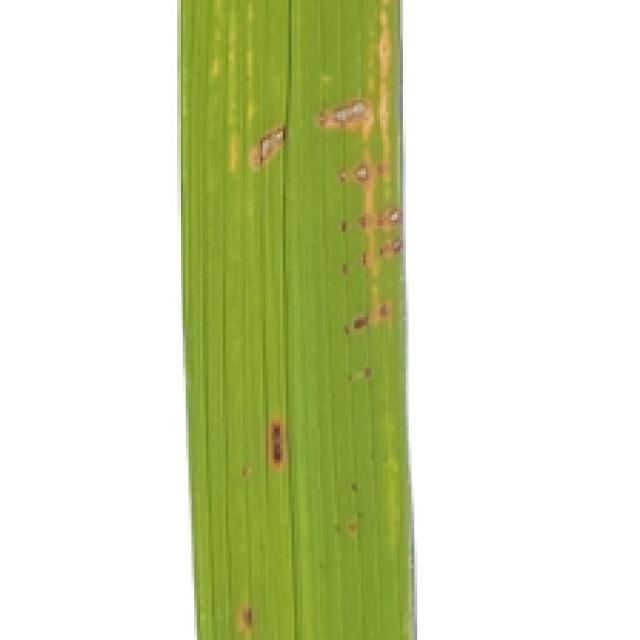Rice___Brown_Spot: (179, 0, 418, 637)
